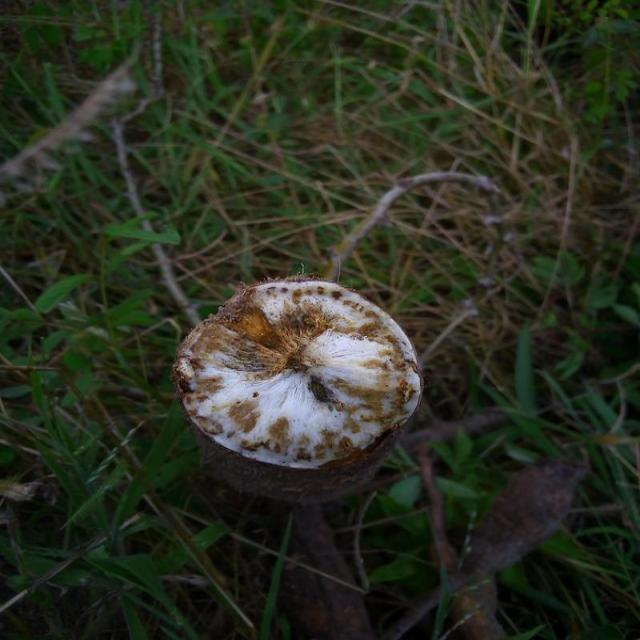cassava leaf: (171, 272, 423, 501)
